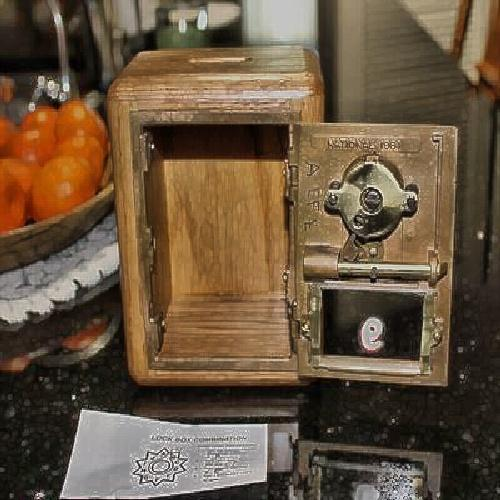cabinet: (106, 42, 457, 410)
